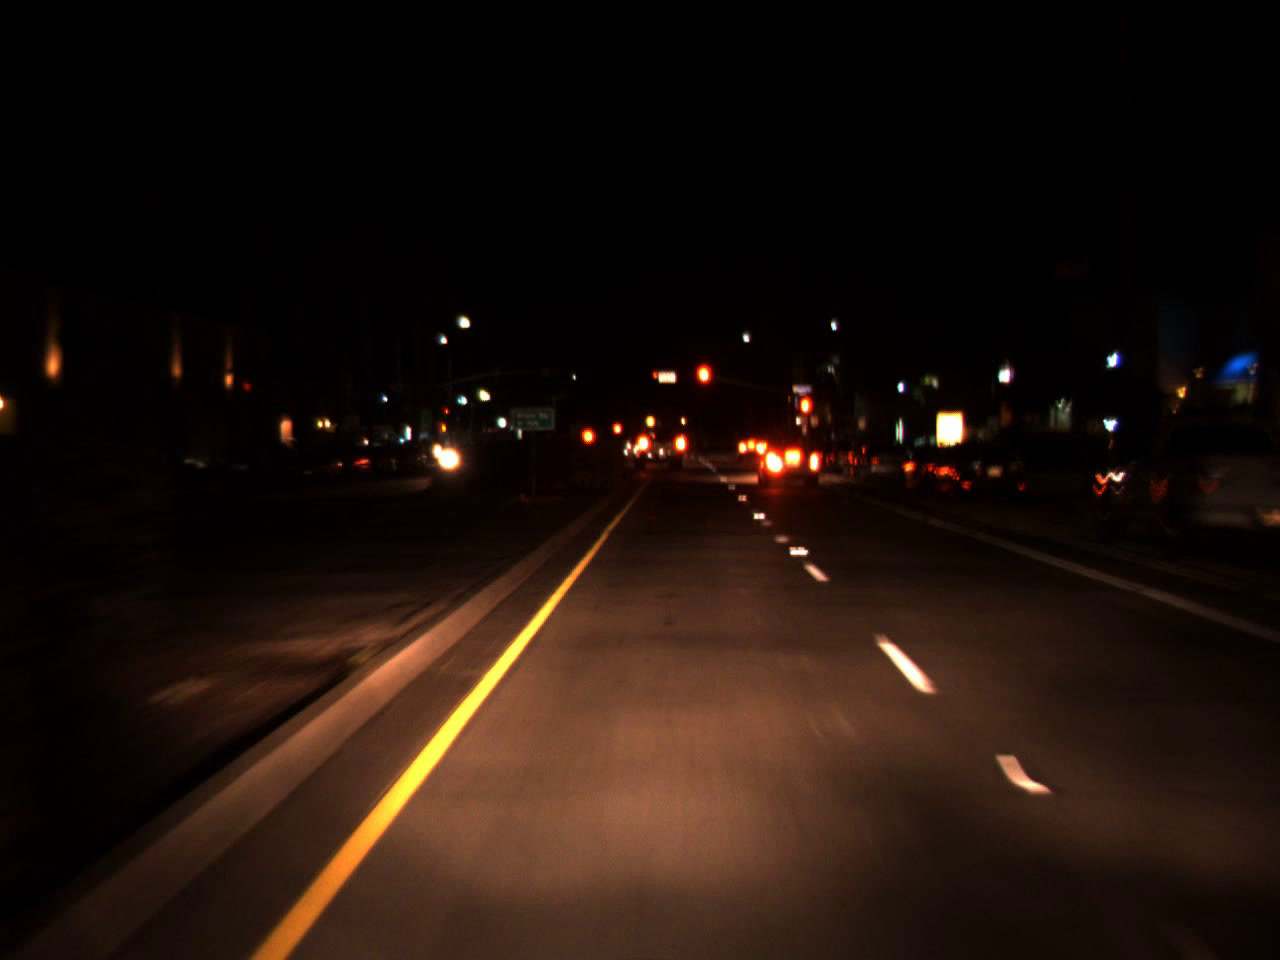stop: (693, 361, 714, 406), (797, 391, 815, 439), (442, 405, 449, 421), (653, 371, 659, 384)
